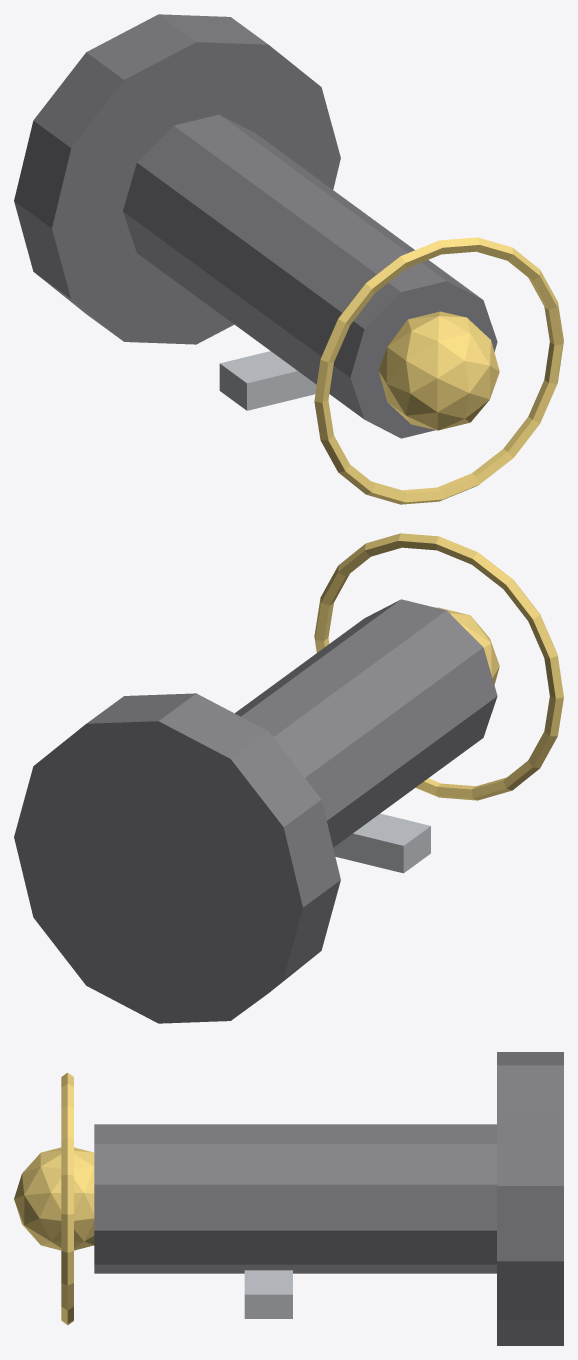
File: chimera_growth_pod_tower.glb
The picture shows the model from 3 angles, top to bottom: view 1: azimuth 30°, elevation 25°; view 2: azimuth 150°, elevation 25°; view 3: azimuth 270°, elevation 25°; orthographic projection. The views are drawn at different scales.
Parts seen in each view (by area): view 1: base, tower_body, signal_ring, energy_core, armor_plate; view 2: base, tower_body, signal_ring, armor_plate, energy_core; view 3: tower_body, base, energy_core, signal_ring, armor_plate.
Part boxes in pixels (bbox=[...]): base: bbox=[14, 14, 340, 344]; tower_body: bbox=[123, 114, 497, 438]; signal_ring: bbox=[314, 237, 563, 504]; energy_core: bbox=[379, 311, 499, 430]; armor_plate: bbox=[219, 351, 316, 410]; base: bbox=[14, 693, 340, 1023]; tower_body: bbox=[235, 599, 497, 847]; signal_ring: bbox=[314, 533, 563, 800]; armor_plate: bbox=[333, 813, 430, 873]; energy_core: bbox=[436, 607, 499, 684]; tower_body: bbox=[94, 1124, 496, 1273]; base: bbox=[497, 1052, 563, 1345]; energy_core: bbox=[14, 1147, 94, 1250]; signal_ring: bbox=[61, 1072, 73, 1325]; armor_plate: bbox=[244, 1270, 292, 1318].
Bounding box in the file's own units: 1.1 × 1.1 × 2.05.
